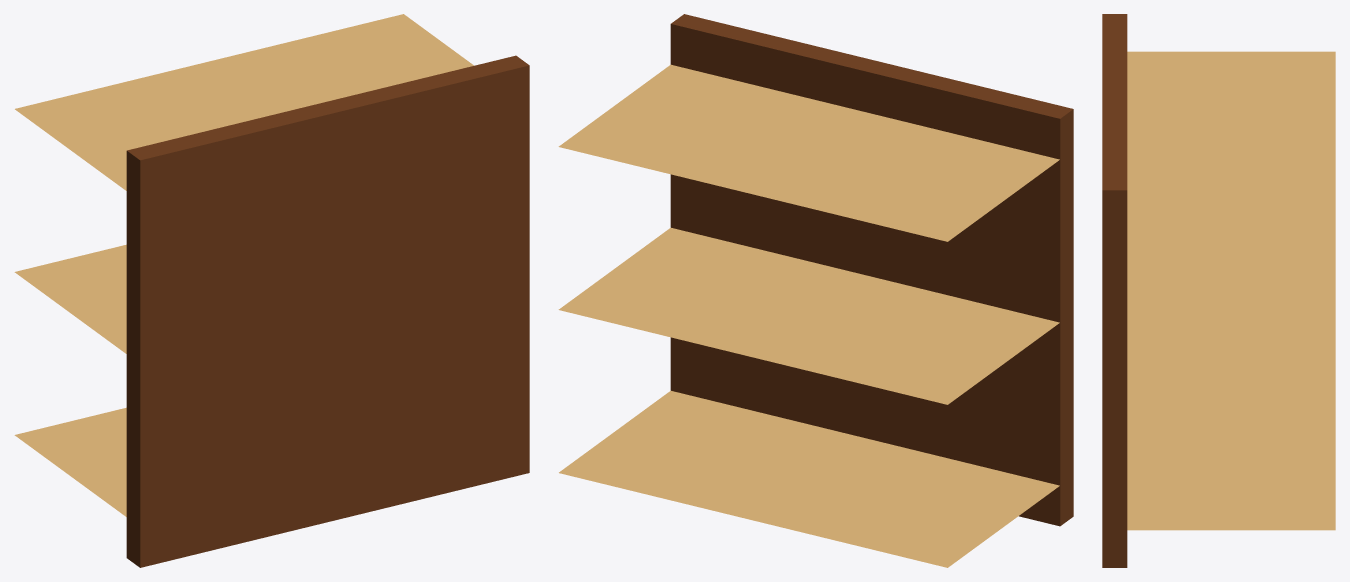
File: shelf_conected.fbx
3 views of the same model, side by side, from view 1: azimuth 30°, elevation 25°; view 2: azimuth 150°, elevation 25°; view 3: azimuth 270°, elevation 25° (orthographic). The views are drawn at different scales.
Parts seen in each view (by area): view 1: Plane.004; view 2: Plane.004; view 3: Plane.004.
Part boxes in pixels (box(x1,y1,x2,y2)): Plane.004: box(14, 14, 529, 567); Plane.004: box(558, 14, 1073, 567); Plane.004: box(1102, 14, 1335, 567).
Size of the model in its own units: 1000 by 1000 by 560.
